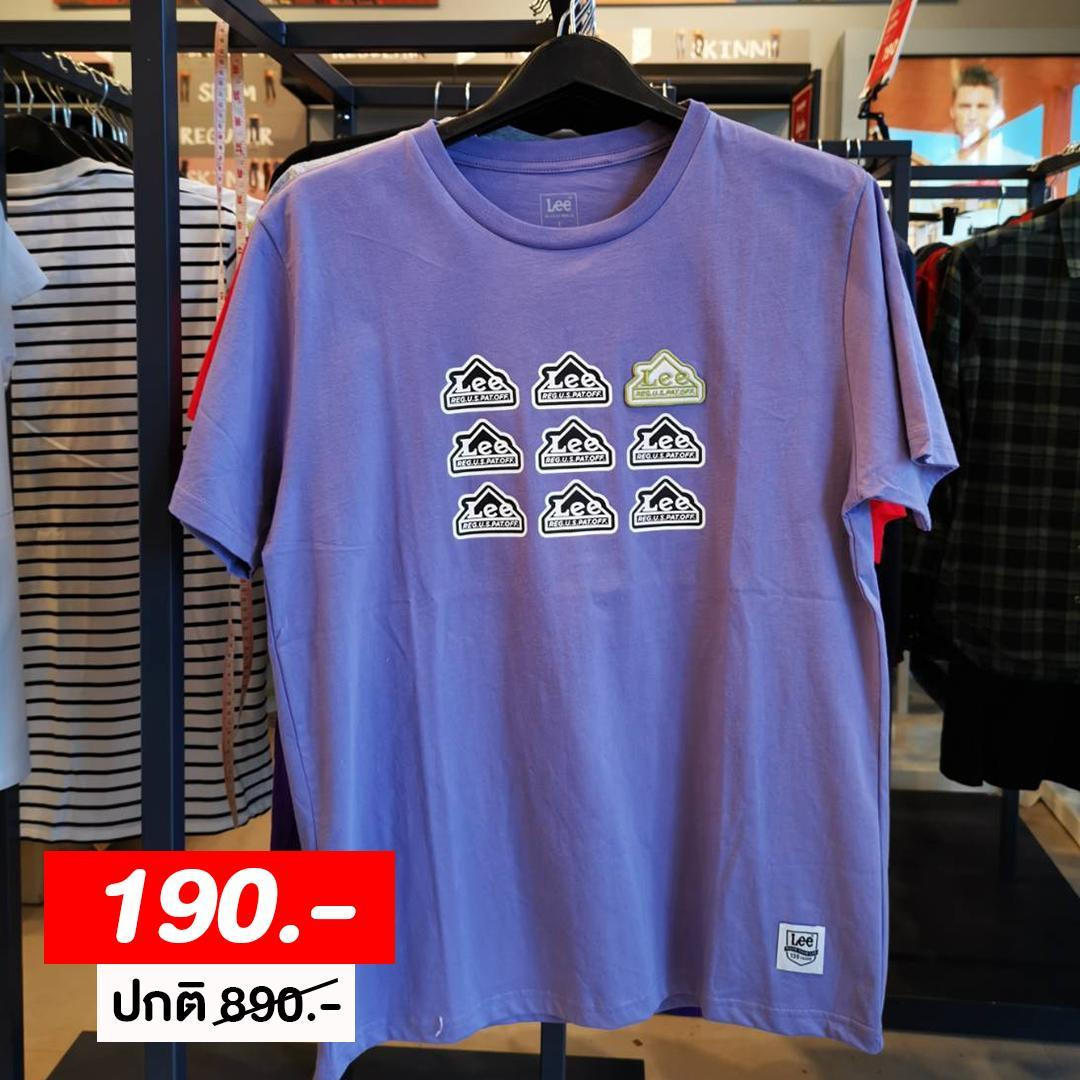Tshirt: (180, 118, 955, 1020)
